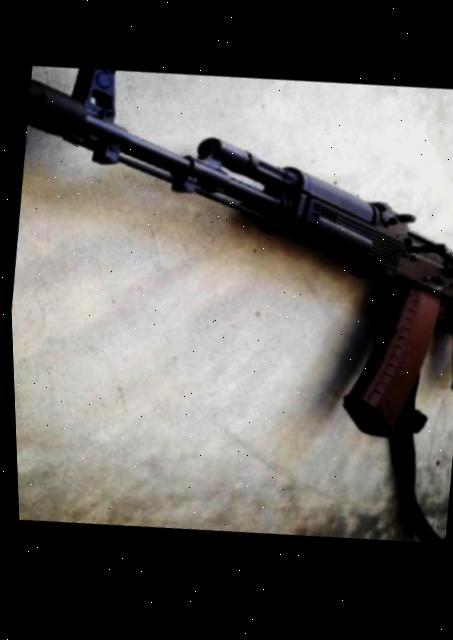rifle: (2, 43, 453, 469)
